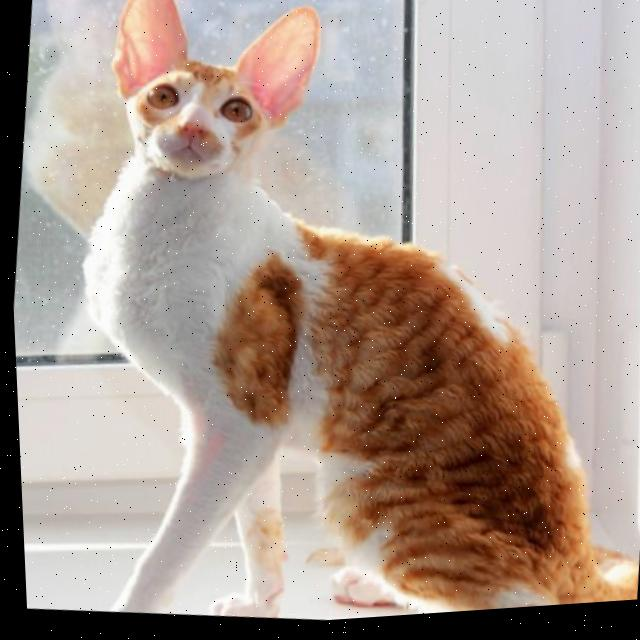Cornish Rex: (23, 0, 640, 639)
